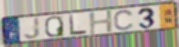3: (137, 6, 159, 30)
C: (113, 9, 135, 31)
H: (88, 9, 115, 36)
J: (22, 16, 42, 40)
L: (68, 13, 89, 37)
Q: (44, 15, 65, 38)
